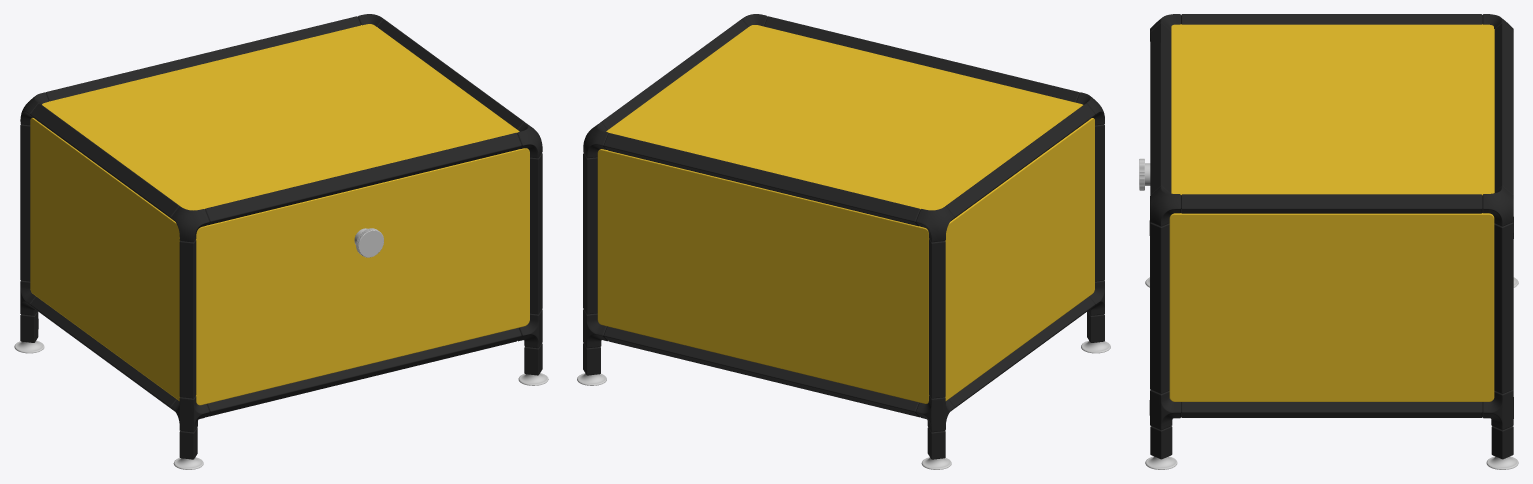
3 views of the same model, side by side, from view 1: azimuth 30°, elevation 25°; view 2: azimuth 150°, elevation 25°; view 3: azimuth 270°, elevation 25° (orthographic). The views are drawn at different scales.
Parts seen in each view (by area): view 1: 479x374x229; view 2: 479x374x229; view 3: 479x374x229.
Boxes of the visible parts, x1,y1,x2,y2 form: 479x374x229: (14, 14, 548, 469); 479x374x229: (577, 14, 1110, 469); 479x374x229: (1139, 14, 1518, 469).
Size of the model in its own units: 0.5689 by 0.3683 by 0.4707.
